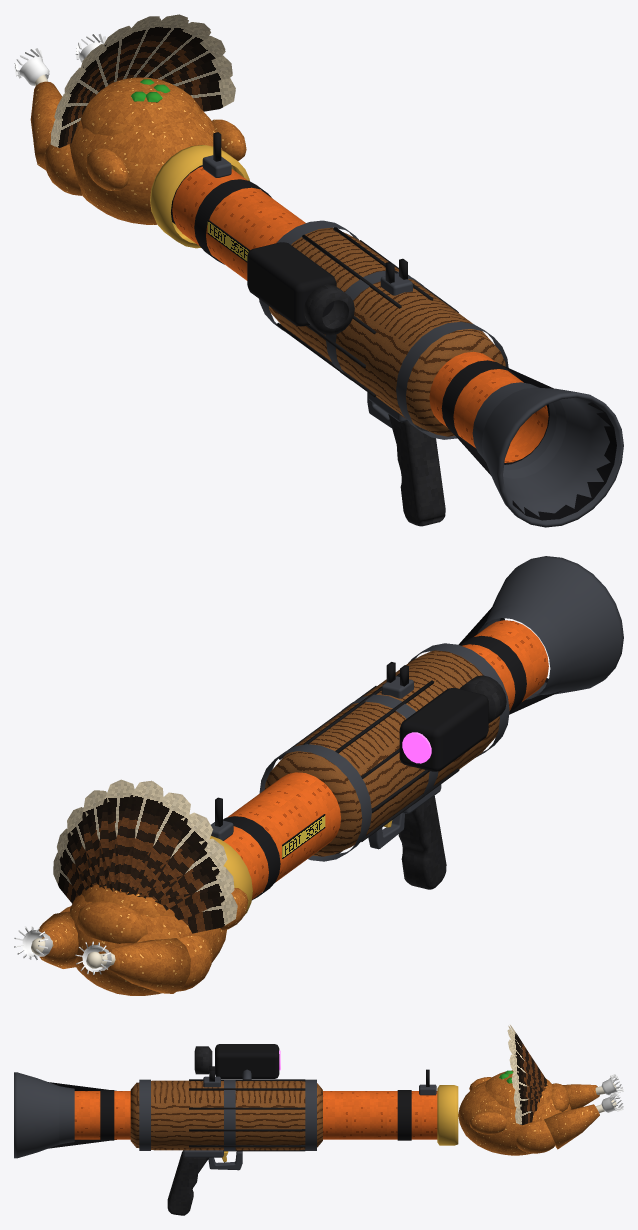
File: w_chicken_turkey.glb
The picture shows the model from 3 angles, top to bottom: view 1: azimuth 30°, elevation 25°; view 2: azimuth 150°, elevation 25°; view 3: azimuth 270°, elevation 25°; orthographic projection. The views are drawn at different scales.
Parts seen in each view (by area): view 1: turkey_body_wzA, turkey_body_wzB, turkey_body_wzN; view 2: turkey_body_wzA, turkey_body_wzB, turkey_body_wzN; view 3: turkey_body_wzA, turkey_body_wzB, turkey_body_wzN.
Part boxes in pixels (x1,y1,x2,y2): turkey_body_wzA: [172, 155, 623, 527]; turkey_body_wzB: [30, 77, 519, 445]; turkey_body_wzN: [14, 14, 616, 520]; turkey_body_wzA: [211, 556, 623, 899]; turkey_body_wzB: [39, 635, 526, 995]; turkey_body_wzN: [14, 603, 561, 974]; turkey_body_wzA: [14, 1046, 437, 1215]; turkey_body_wzB: [100, 1044, 599, 1162]; turkey_body_wzN: [48, 1025, 623, 1148].
Size of the model in its own units: 0.225 by 0.3473 by 1.05.
14 materials, 6 textured.
